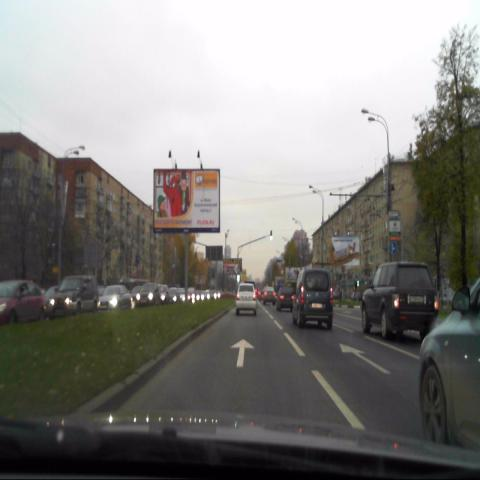4_1_4: (389, 241, 396, 254)
